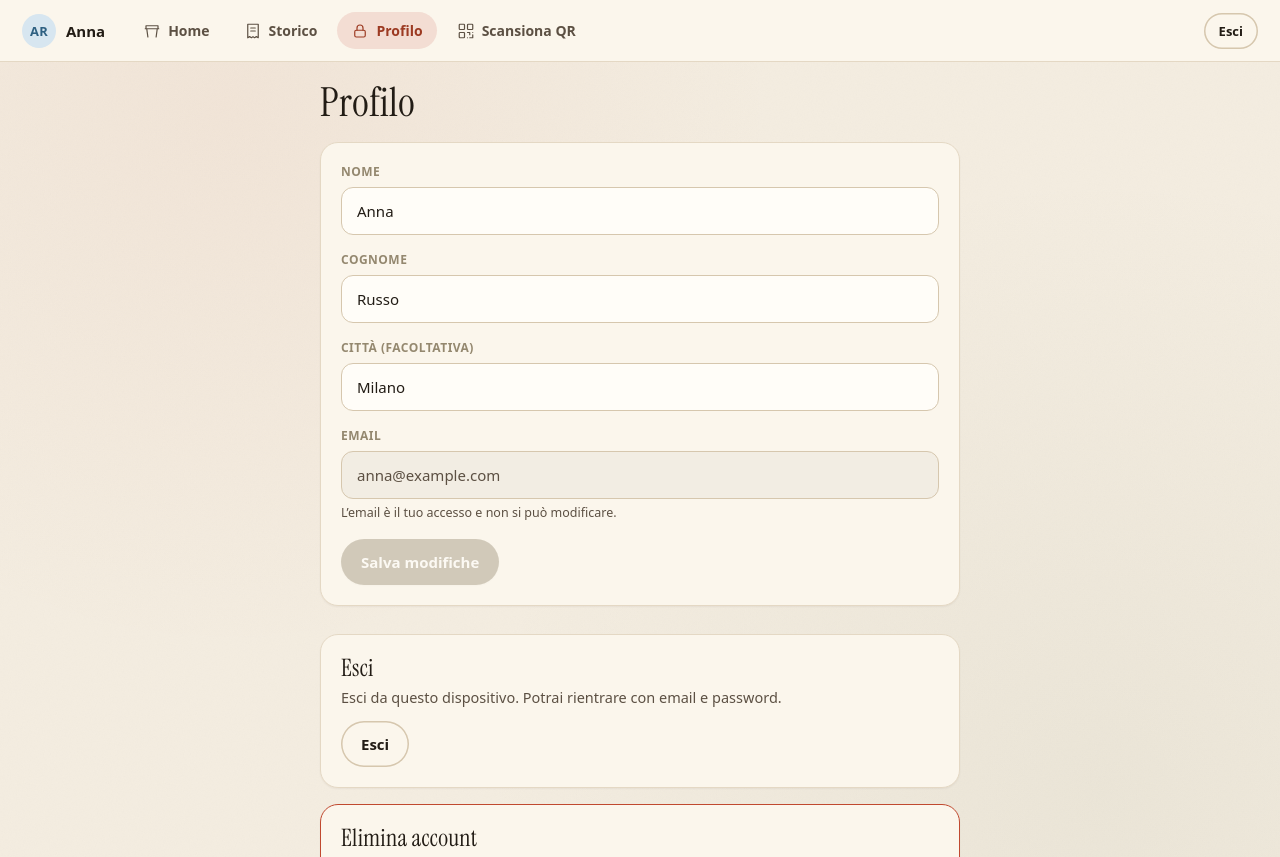
Scenario: profilo: dati › un errore dell’API si mostra e i dati restano modificabili
Type "x" into the field labelled "Nome".
click(640, 211); type("x")  # box [341, 187, 939, 235]
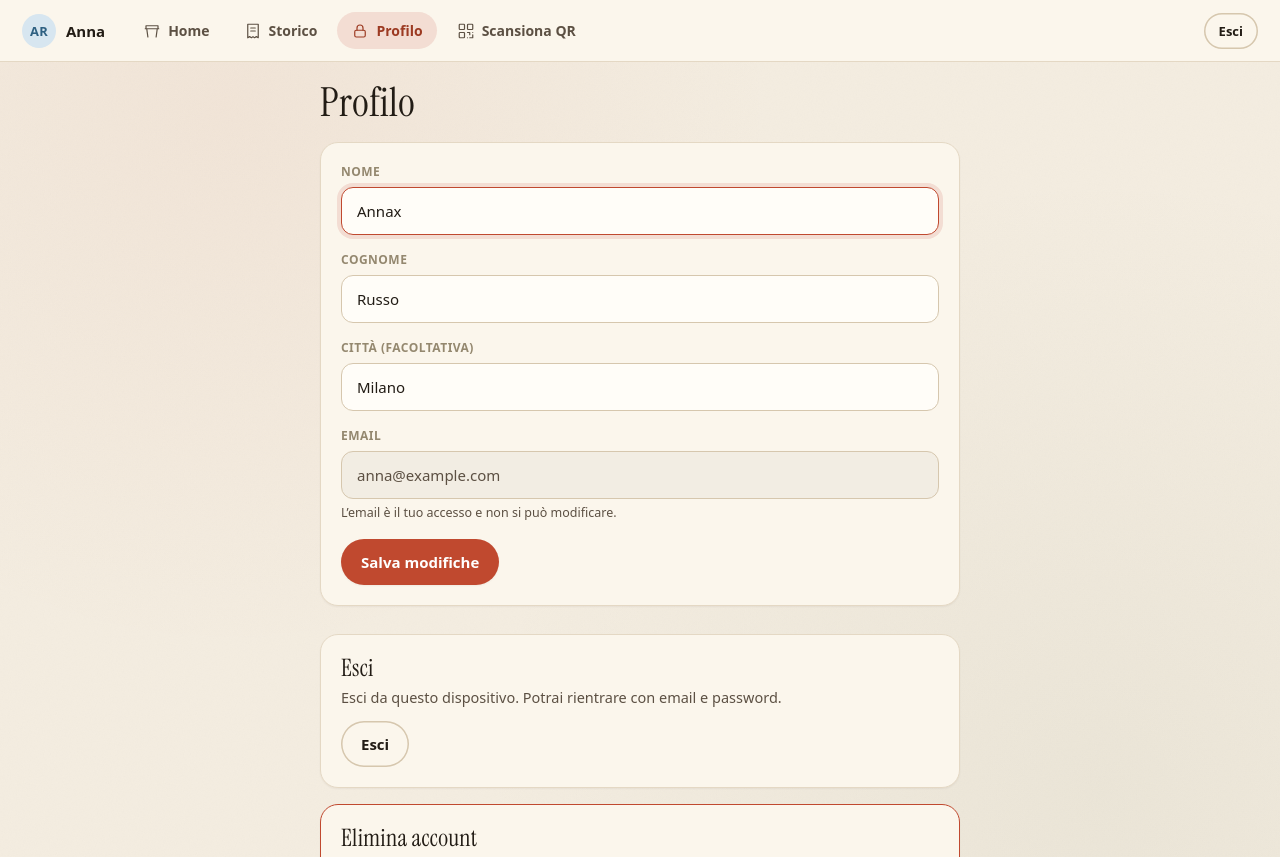
Click the button "Salva modifiche".
click(420, 562)  # box [341, 539, 499, 585]
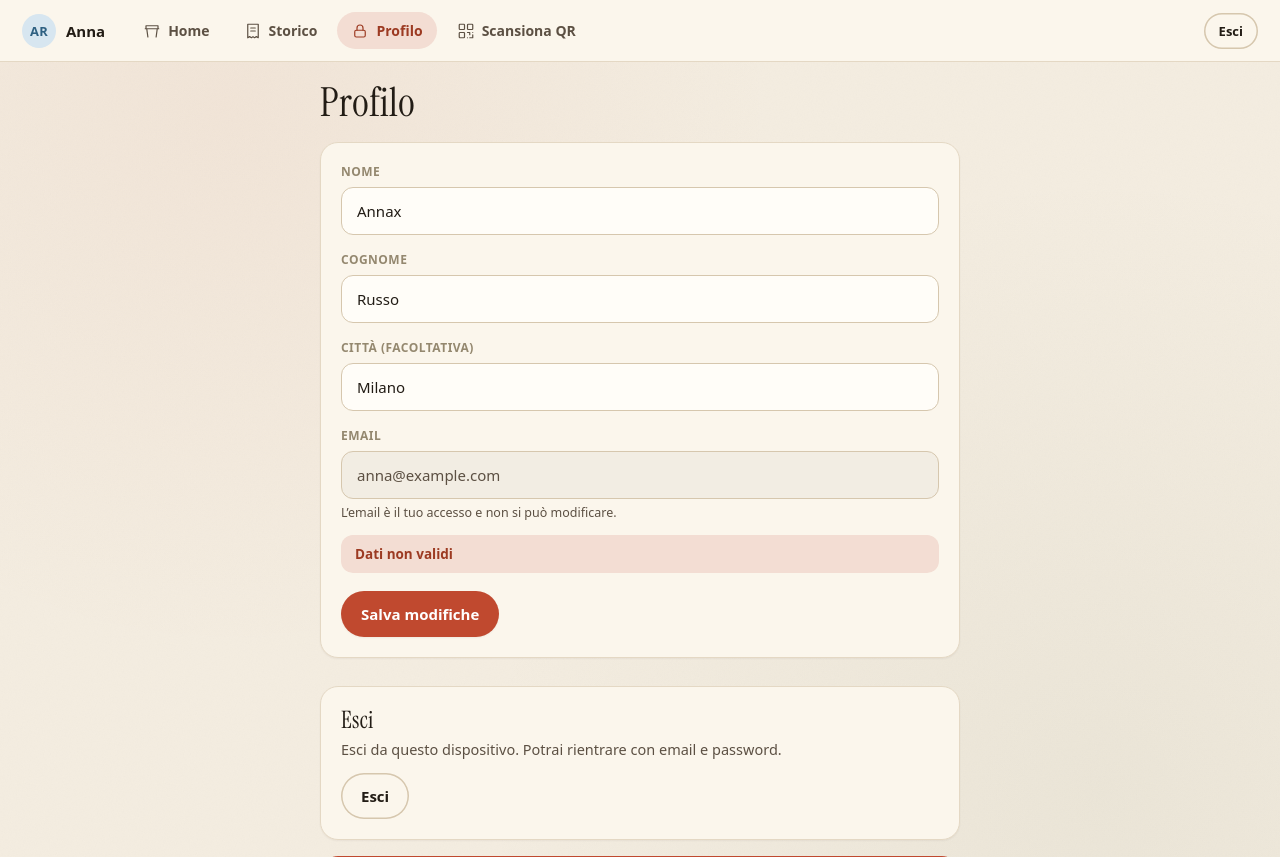
Result: the message reads "Dati non validi" at [355, 545, 453, 563]
